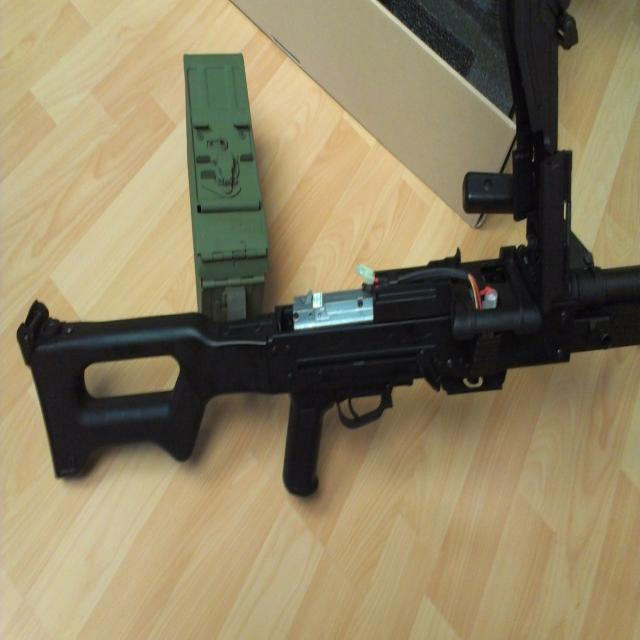firearm: (16, 154, 640, 498)
